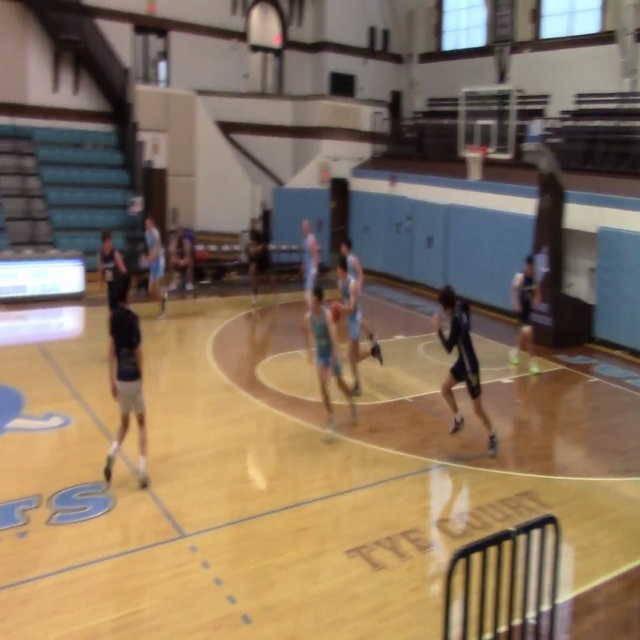Basketball: (329, 301, 341, 322), (508, 348, 519, 365), (529, 364, 540, 374)
